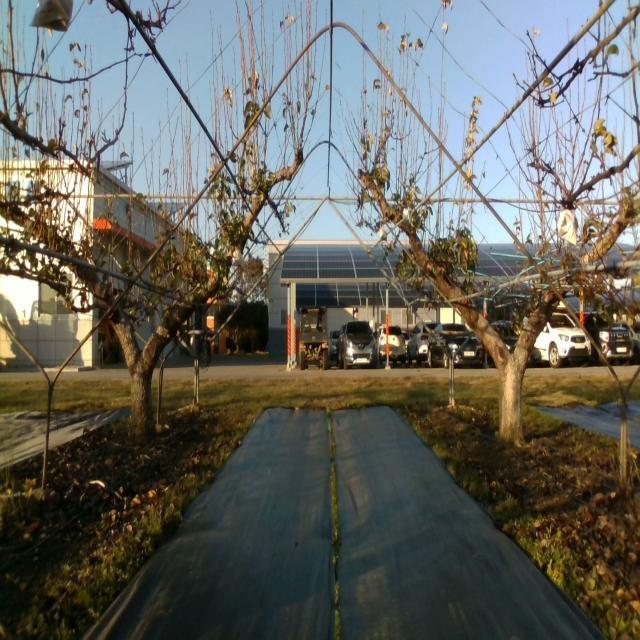pearbags: (30, 0, 74, 30), (556, 206, 577, 246), (232, 246, 244, 265)
